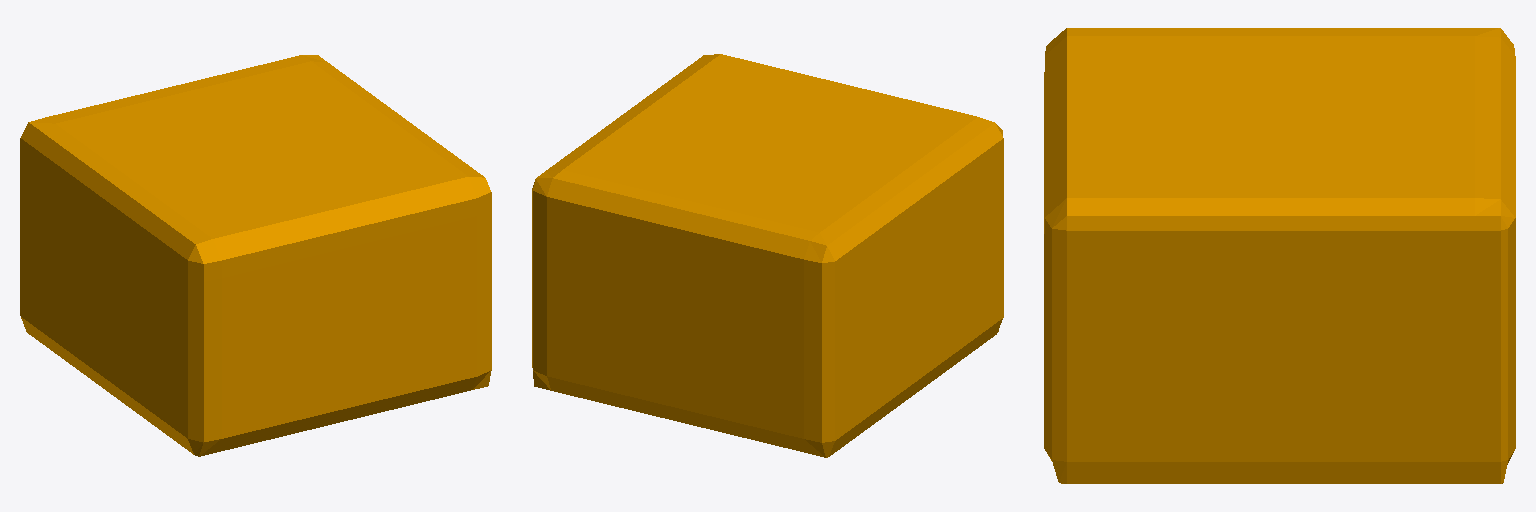
URDF robot description (cylinder_box_174):
<?xml version="1.0" encoding="utf-8"?>  <robot name="cylinder_box_174">   <link name="cylinder_box_174">     <visual>       <geometry>         <mesh filename="../meshes/box/box_174.stl" scale="1 1 1"/>       </geometry>     </visual>     <collision>       <geometry>         <mesh filename="../meshes/box/box_174.stl" scale="1 1 1"/>       </geometry>     </collision>     <inertial>        <origin         xyz="0 0 0"         rpy="0 0 0" />       <mass value="0.4796122309729256"/>       <origin rpy="0 0 0" xyz="0 0 0"/>       <inertia ixx="0.000475049841590542" ixy="1.6865514970519769e-07" ixz="3.534225408156432e-07" iyy="0.0004474063555030487" iyz="-7.249652485870982e-08" izz="0.0006431864545532983"/>     </inertial>   </link>  </robot>

--- Facts derived from the render (not from the file) ---
The picture shows the robot from 3 angles, left to right: view 1: azimuth 30°, elevation 25°; view 2: azimuth 150°, elevation 25°; view 3: azimuth 270°, elevation 25°; orthographic projection.
Robot: cylinder_box_174 — 1 links, 0 joints (none); root link cylinder_box_174; default pose: every joint at zero.
Visible links, largest first — view 1: cylinder_box_174; view 2: cylinder_box_174; view 3: cylinder_box_174.
Boxes of the visible links, x1,y1,x2,y2 form: cylinder_box_174: [20, 55, 491, 456]; cylinder_box_174: [532, 54, 1003, 457]; cylinder_box_174: [1044, 28, 1515, 483].
Size in the robot's own frame: 0.0883 by 0.0923 by 0.0596 metres.
1 mesh visuals loaded from 1 distinct referenced files (1 binary STL).